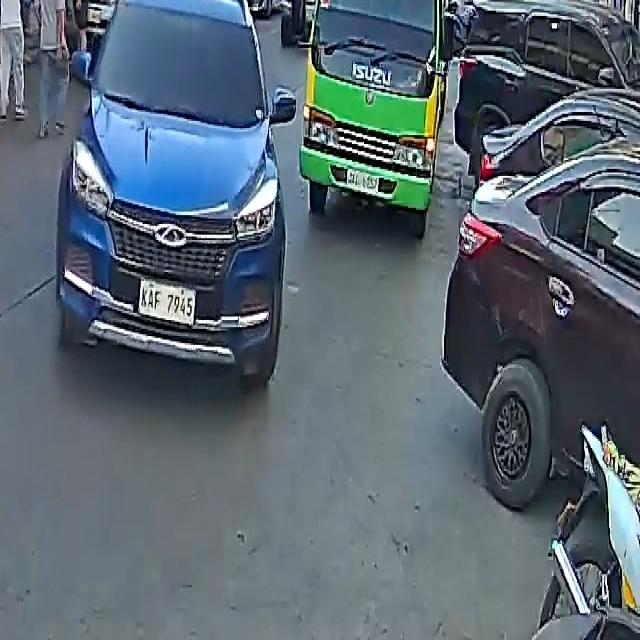car: (54, 0, 294, 382), (443, 87, 640, 519), (453, 0, 640, 176), (76, 0, 194, 43), (221, 0, 293, 21)
